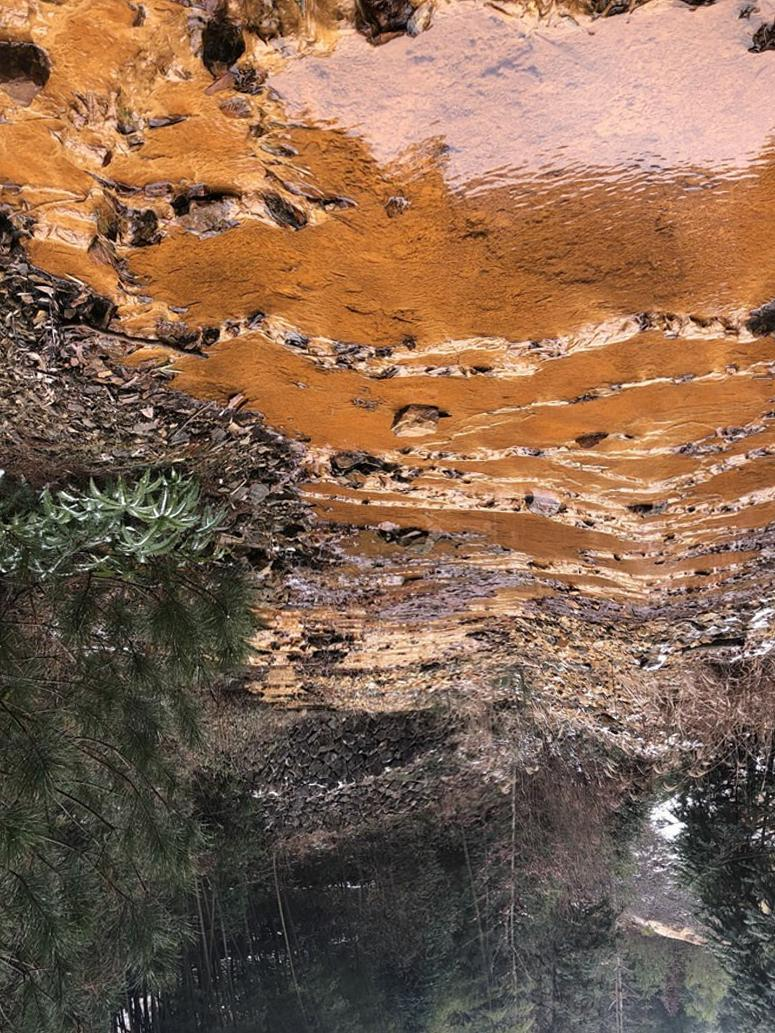Acid Pollution: (6, 0, 775, 462)
